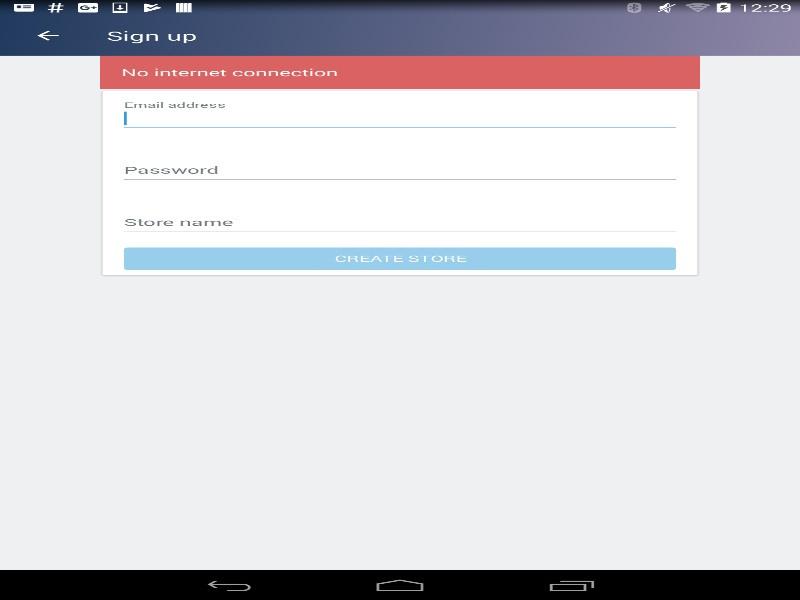Button: (124, 247, 676, 270), (10, 15, 85, 55)
Input: (124, 107, 676, 125), (124, 160, 676, 177), (124, 212, 676, 229)
